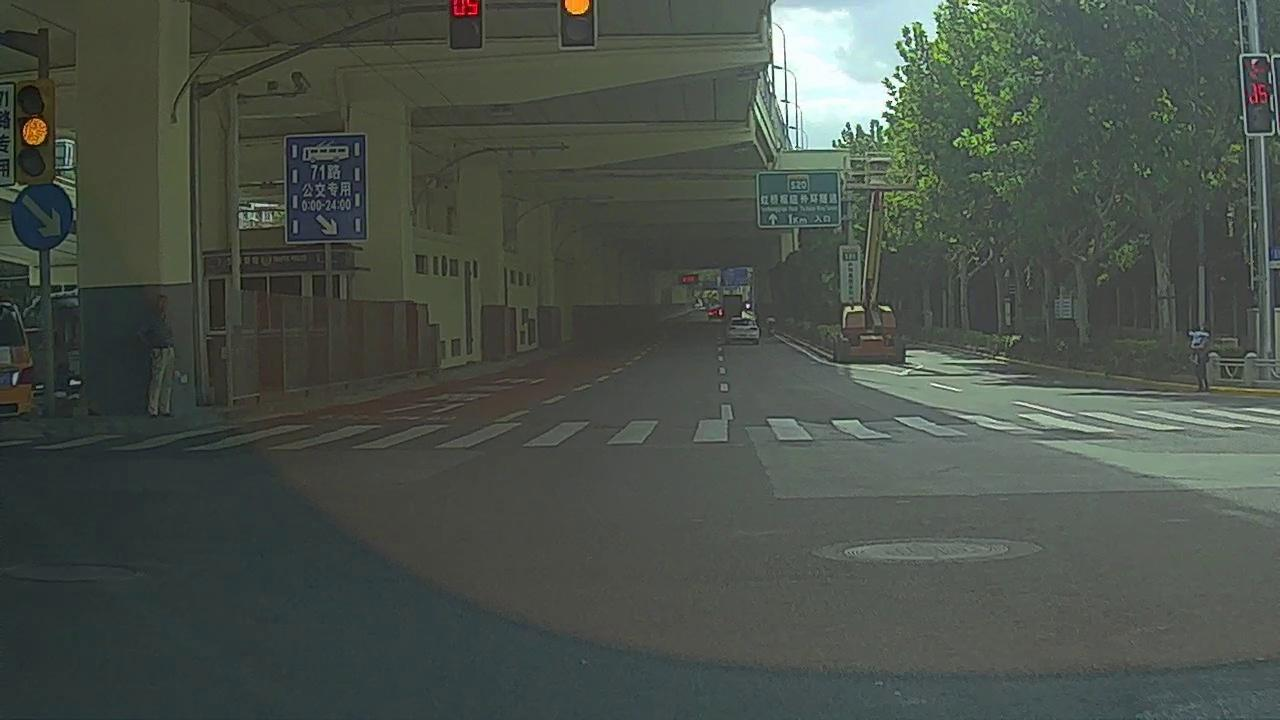traffic_light: (560, 1, 599, 44), (450, 1, 484, 44)
